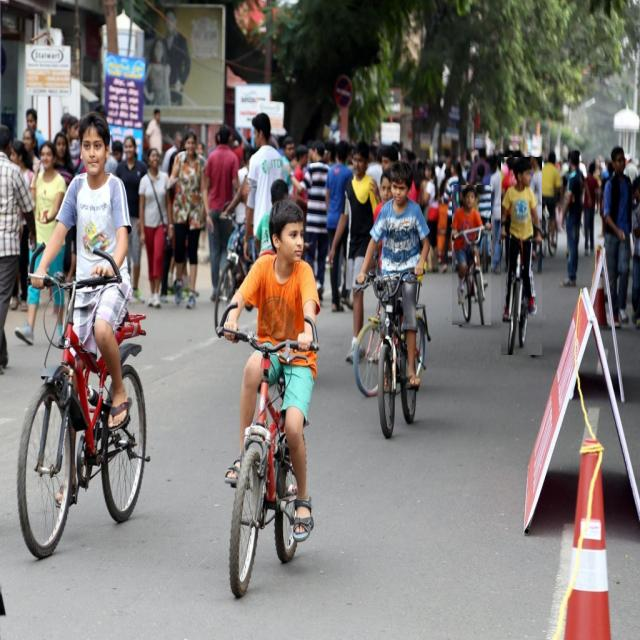bicycle: (18, 113, 146, 557), (216, 200, 320, 596), (356, 161, 430, 437), (501, 158, 542, 355), (452, 185, 491, 325)
